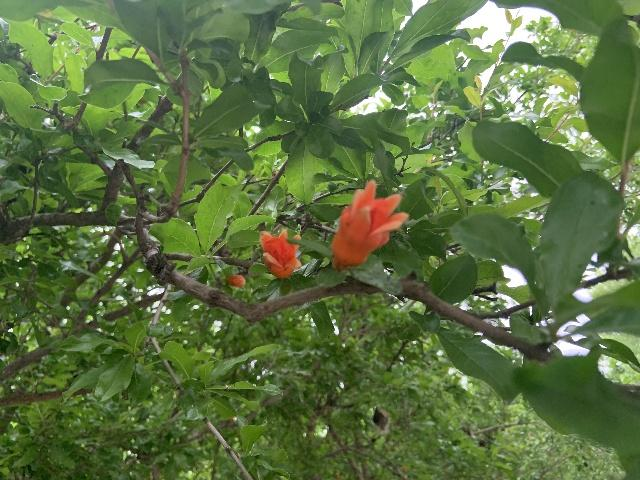bud: (226, 273, 245, 287)
flower: (331, 178, 409, 269), (259, 228, 301, 279)
